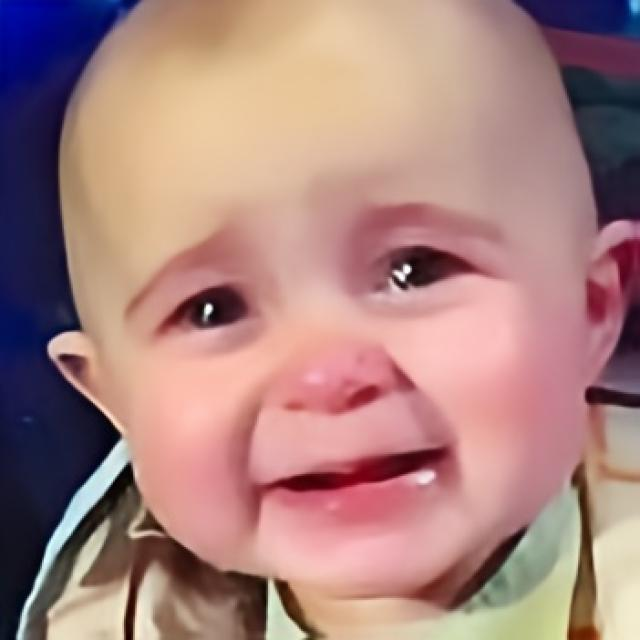sad: (56, 0, 587, 601)
